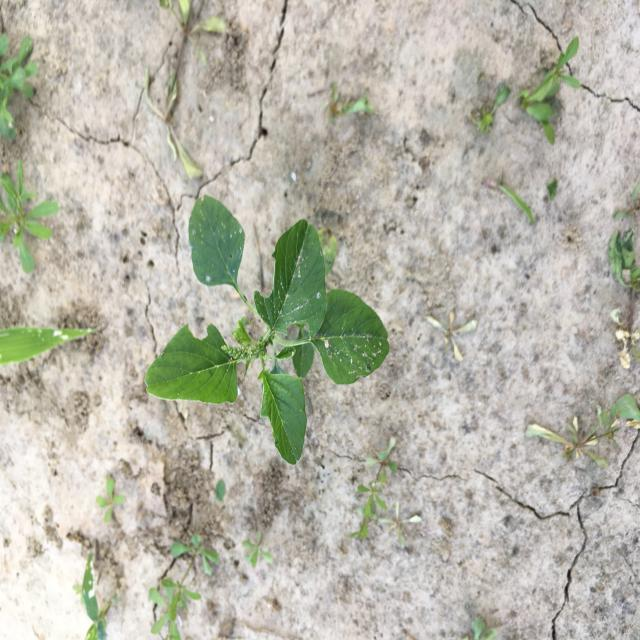Carpetweed: (522, 392, 638, 477), (352, 436, 424, 547), (146, 533, 220, 637), (1, 156, 62, 280)
PalmerAmaranth: (144, 192, 391, 466)
